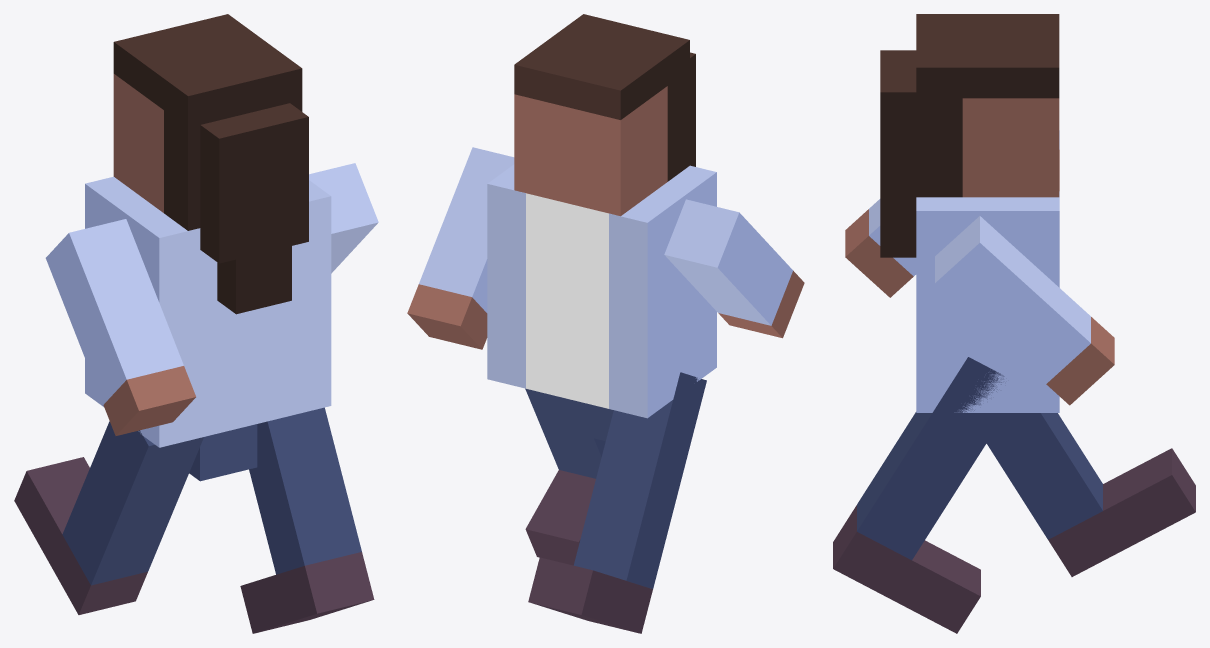
Rendered from new-person-jump-4.1.glb.
3 renders of one model, left to right at view 1: azimuth 30°, elevation 25°; view 2: azimuth 150°, elevation 25°; view 3: azimuth 270°, elevation 25°, orthographic. The views are drawn at different scales.
Visible parts, largest first — view 1: UNIT.066, UNIT.071, UNIT.070, UNIT.069, UNIT.068; view 2: UNIT.066, UNIT.071, UNIT.069, UNIT.068, UNIT.070; view 3: UNIT.066, UNIT.070, UNIT.071, UNIT.068, UNIT.069.
Part boxes in pixels (<box>): UNIT.066: <box>85,14,331,481</box>; UNIT.071: <box>14,421,203,614</box>; UNIT.070: <box>240,407,374,633</box>; UNIT.069: <box>45,219,195,435</box>; UNIT.068: <box>309,163,378,273</box>; UNIT.066: <box>487,14,716,440</box>; UNIT.071: <box>528,372,706,633</box>; UNIT.069: <box>664,199,804,338</box>; UNIT.068: <box>407,147,514,349</box>; UNIT.070: <box>525,388,605,565</box>; UNIT.066: <box>880,14,1059,443</box>; UNIT.070: <box>833,357,1005,633</box>; UNIT.071: <box>986,413,1195,576</box>; UNIT.068: <box>935,216,1114,405</box>; UNIT.069: <box>845,199,916,297</box>.
Bounding box in the file's own units: 0.7001 × 1.34 × 0.7982.
1 material, 1 textured.
